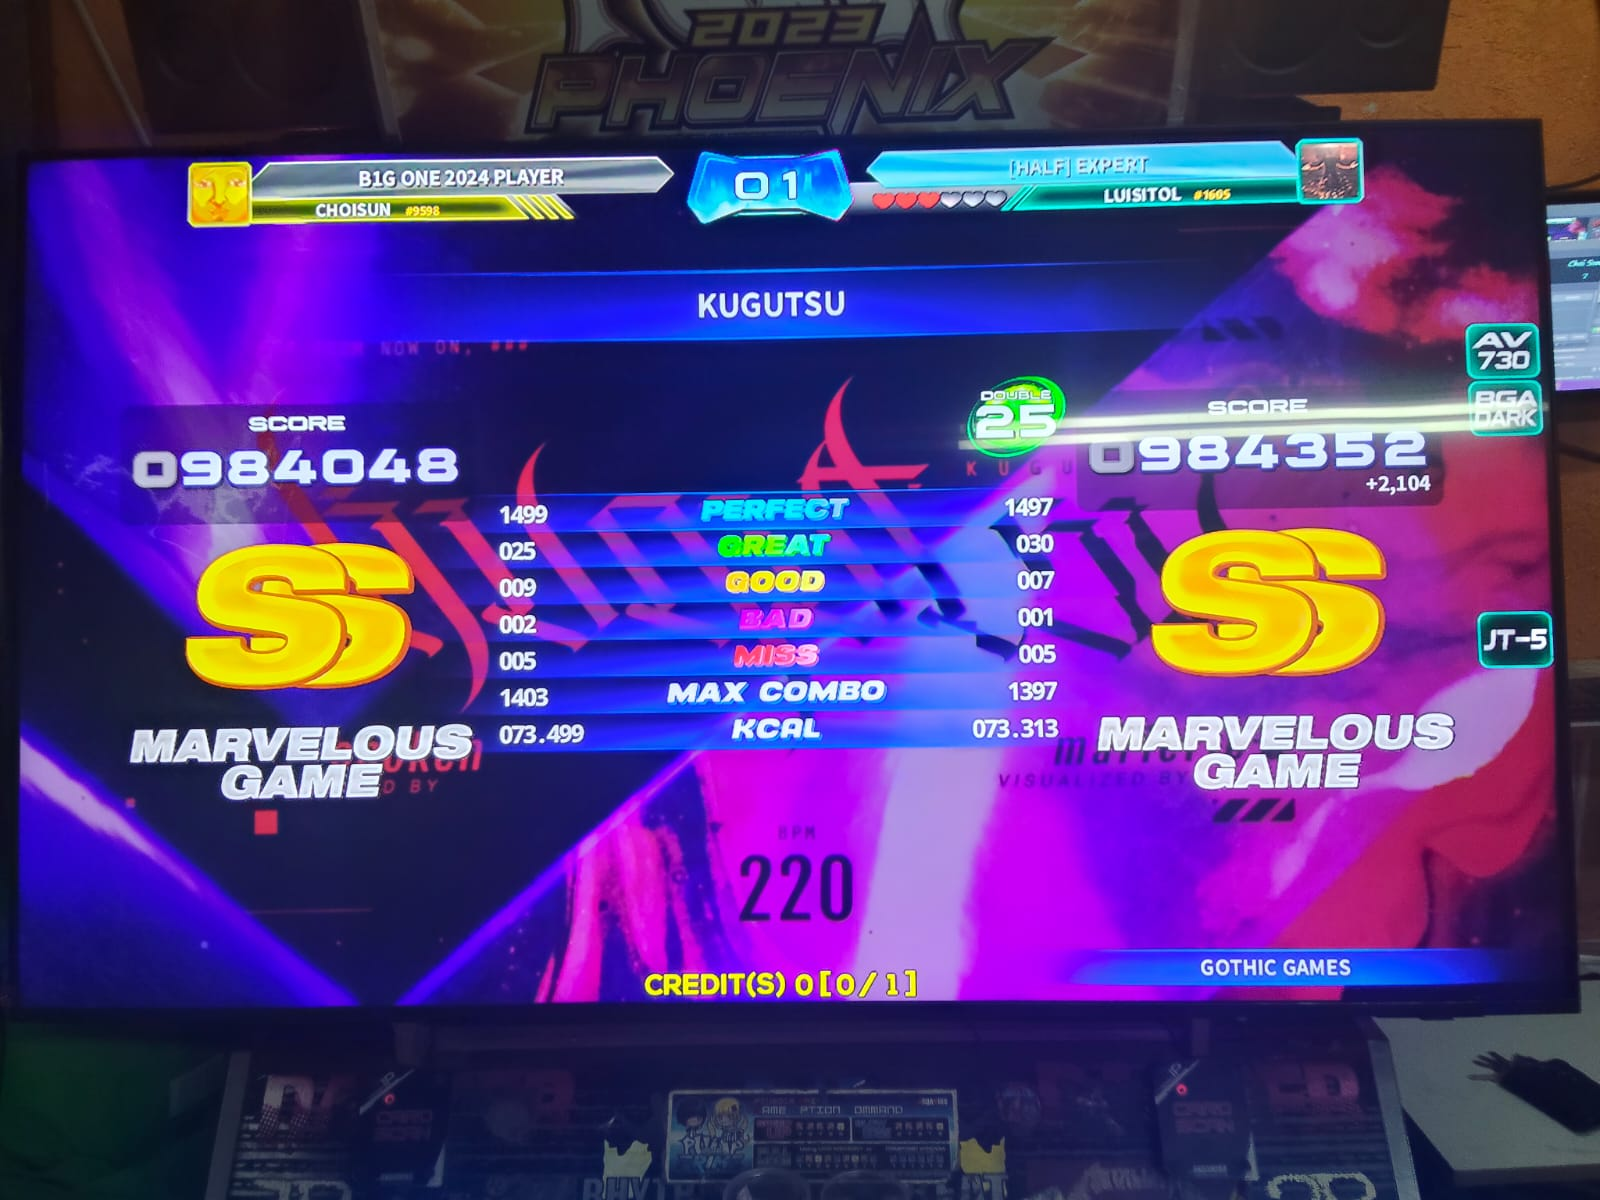difficulty: (934, 372, 1067, 489)
fullscore: (496, 165, 1600, 1035)
rank: (1126, 507, 1439, 696)
song_name: (513, 258, 1119, 340), (1099, 392, 1450, 473)
